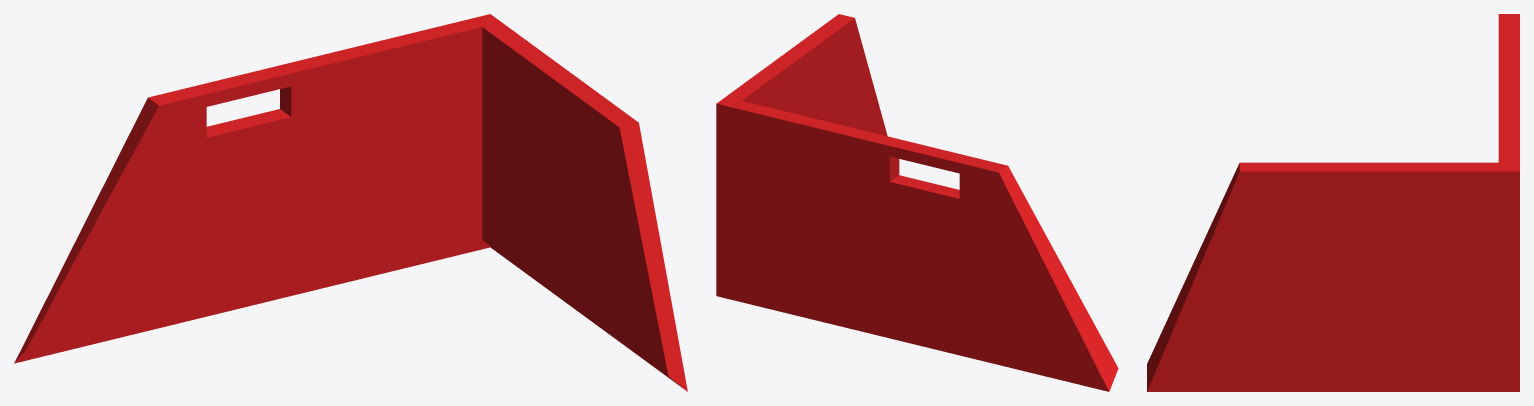
File: plane.001_material.023_0_lev1.glb
3 renders of one model, left to right at view 1: azimuth 30°, elevation 25°; view 2: azimuth 150°, elevation 25°; view 3: azimuth 270°, elevation 25°, orthographic. The views are drawn at different scales.
Visible parts, largest first — view 1: plane.001_material.023_0_lev1; view 2: plane.001_material.023_0_lev1; view 3: plane.001_material.023_0_lev1.
Boxes of the visible parts, bbox=[...] form: plane.001_material.023_0_lev1: bbox=[14, 14, 687, 391]; plane.001_material.023_0_lev1: bbox=[716, 14, 1118, 391]; plane.001_material.023_0_lev1: bbox=[1147, 14, 1519, 391].
Bounding box in the file's own units: 577 × 270 × 415.
